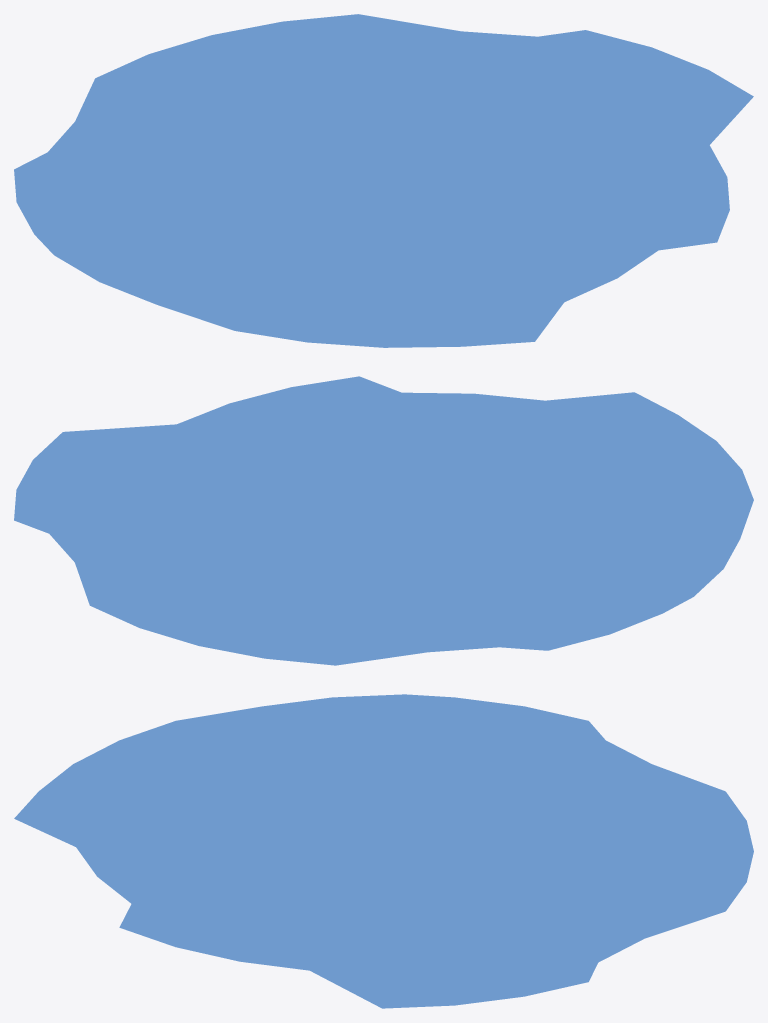
The model's file is Puddle.fbx.
The picture shows the model from 3 angles, top to bottom: view 1: azimuth 30°, elevation 25°; view 2: azimuth 150°, elevation 25°; view 3: azimuth 270°, elevation 25°; orthographic projection. The views are drawn at different scales.
Parts seen in each view (by area): view 1: Circle; view 2: Circle; view 3: Circle.
Boxes of the visible parts, x1=… form: Circle: x1=14, y1=14, x2=753, y2=347; Circle: x1=14, y1=376, x2=753, y2=665; Circle: x1=14, y1=694, x2=753, y2=1008.
Bounding box in the file's own units: 565 × 9.16e-05 × 562.
